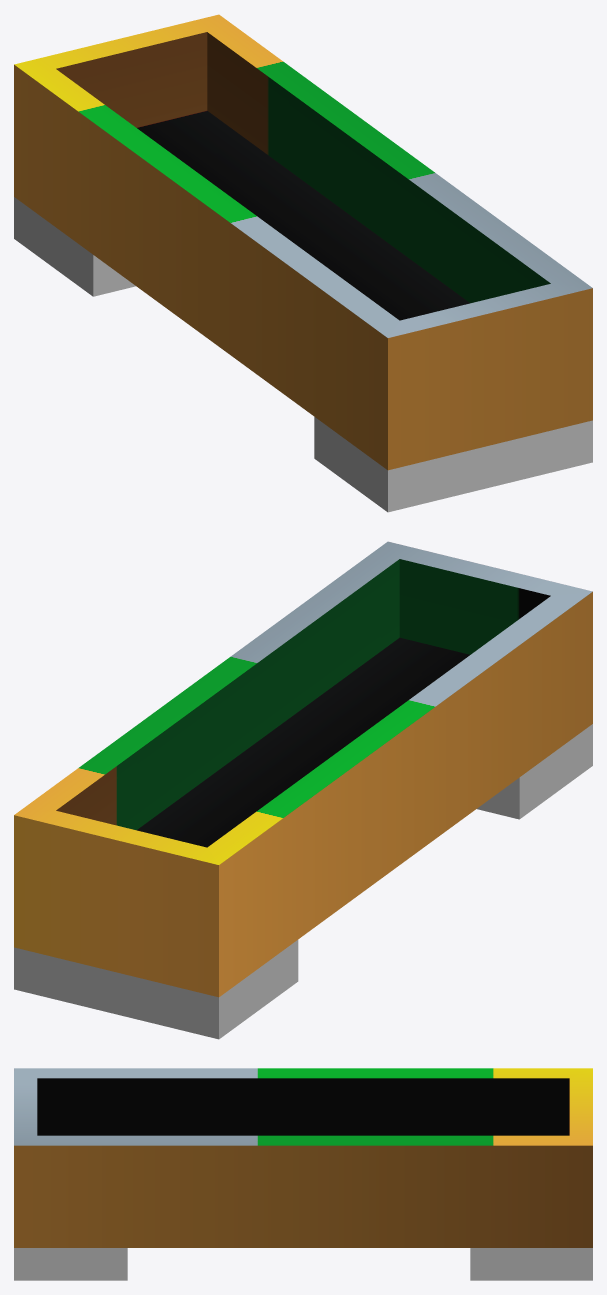
File: UvsJardinera.fbx
3 views of the same model, one above another, from view 1: azimuth 30°, elevation 25°; view 2: azimuth 150°, elevation 25°; view 3: azimuth 270°, elevation 25° (orthographic). The views are drawn at different scales.
Parts seen in each view (by area): view 1: jardinera; view 2: jardinera; view 3: jardinera.
Boxes of the visible parts, x1,y1,x2,y2 form: jardinera: [14, 14, 592, 512]; jardinera: [14, 541, 592, 1039]; jardinera: [14, 1068, 592, 1280].
Size of the model in its own units: 261 by 212 by 823.
